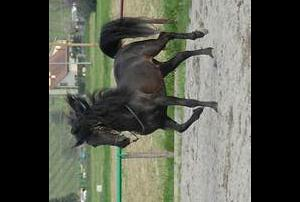horse: (63, 16, 218, 149)
